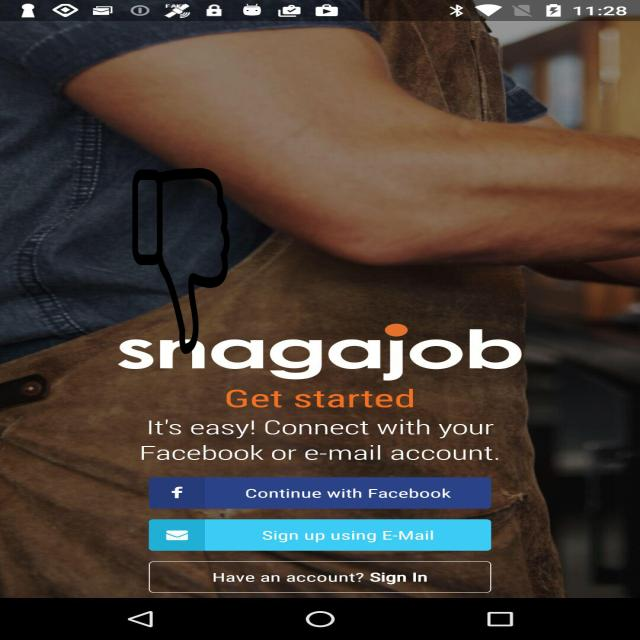obstruction: (131, 168, 231, 354)
